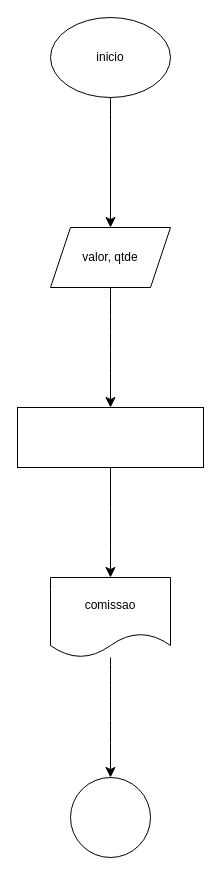
This 221x875 diagram has some shape labels left out. The centre of each missing label's shape, as x and y in pixels:
"fim" belongs at point (110, 817).
"venda = valor*qtde comissao = venda *5/100" belongs at point (110, 437).
